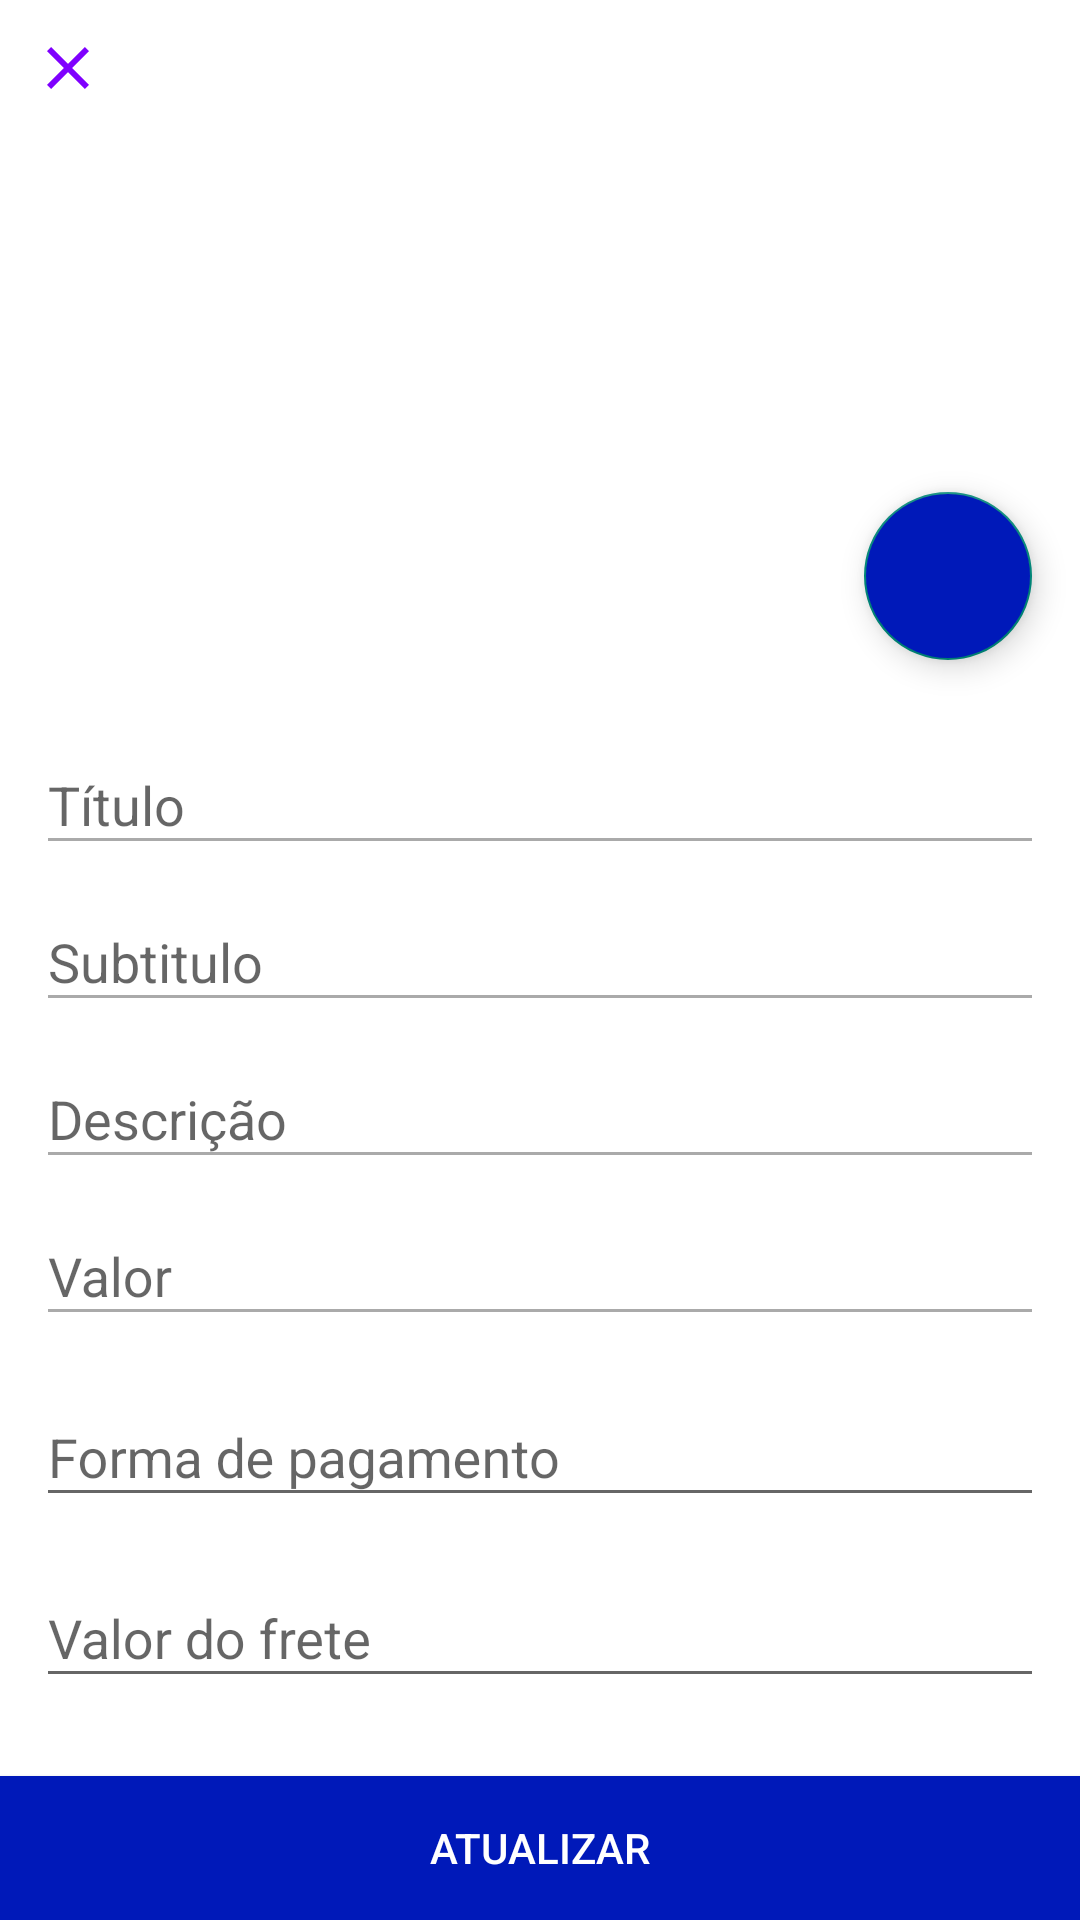

Icons on this 1080 x 1920 Android screen, each with the point to tap as (x=x, y=y):
close: (x=68, y=68)
